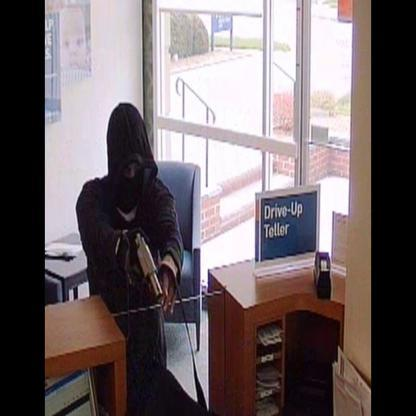pistols: (126, 232, 166, 302)
